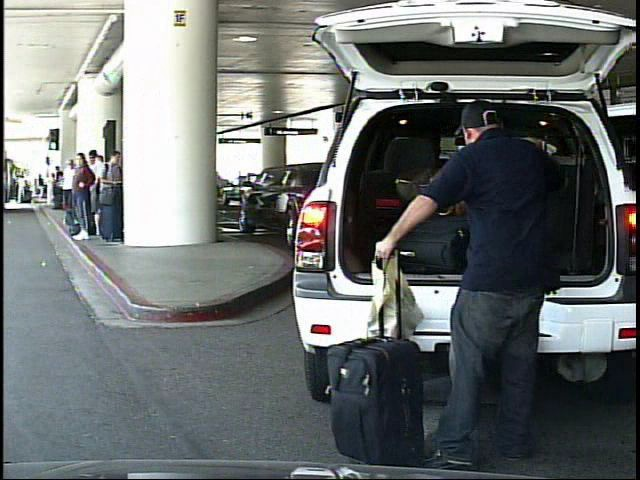person: (378, 100, 568, 474), (33, 172, 46, 203), (18, 175, 28, 206)
